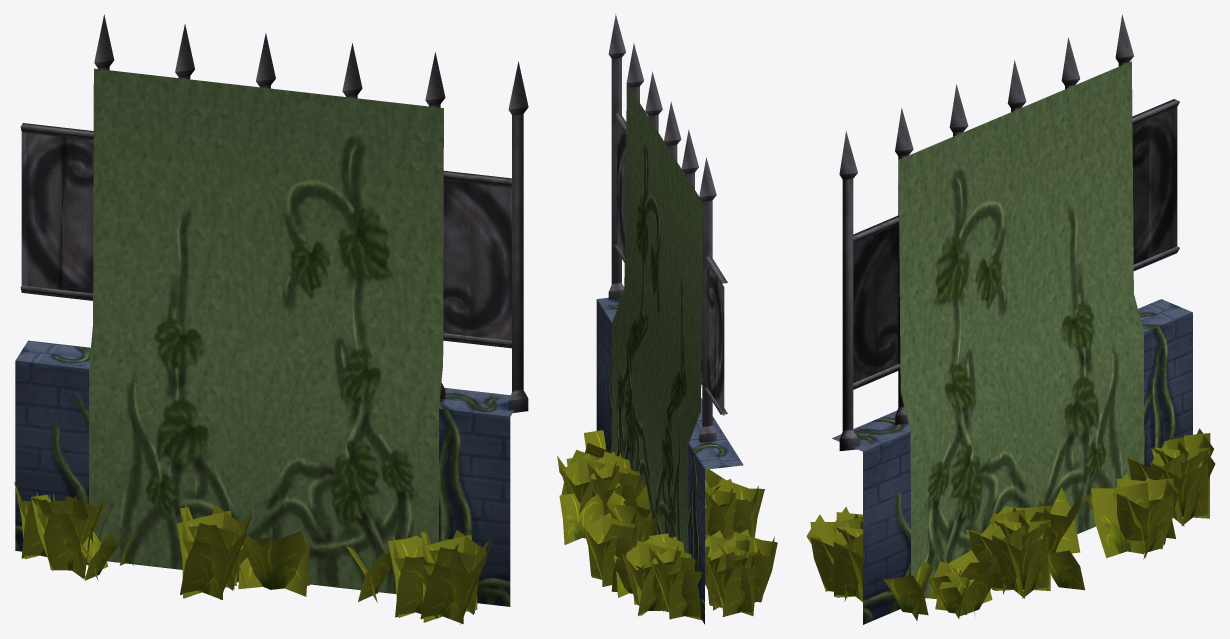
The model's file is a_SWTwall04.glb.
The picture shows the model from 3 angles, left to right: view 1: azimuth 30°, elevation 25°; view 2: azimuth 150°, elevation 25°; view 3: azimuth 270°, elevation 25°; orthographic projection. The views are drawn at different scales.
Visible parts, largest first — view 1: a_SWTwall04; view 2: a_SWTwall04; view 3: a_SWTwall04.
Part boxes in pixels (bbox=[...]): a_SWTwall04: bbox=[14, 14, 528, 624]; a_SWTwall04: bbox=[557, 14, 777, 624]; a_SWTwall04: bbox=[806, 14, 1215, 624].
Size of the model in its own units: 2.24 by 3.29 by 2.48.
4 materials, 4 textured.
